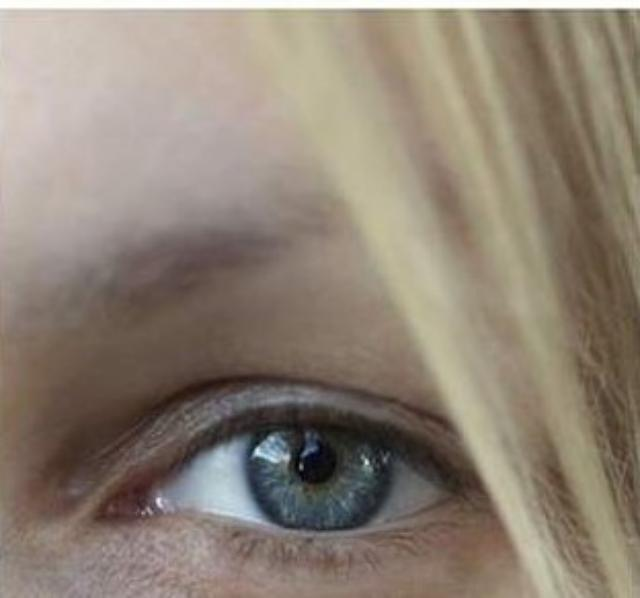eye: (252, 422, 394, 532)
